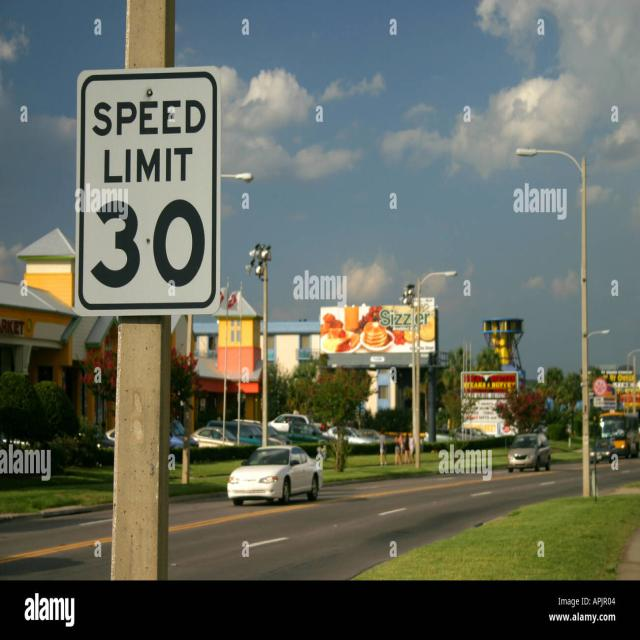speedLimit35: (76, 74, 219, 298)
